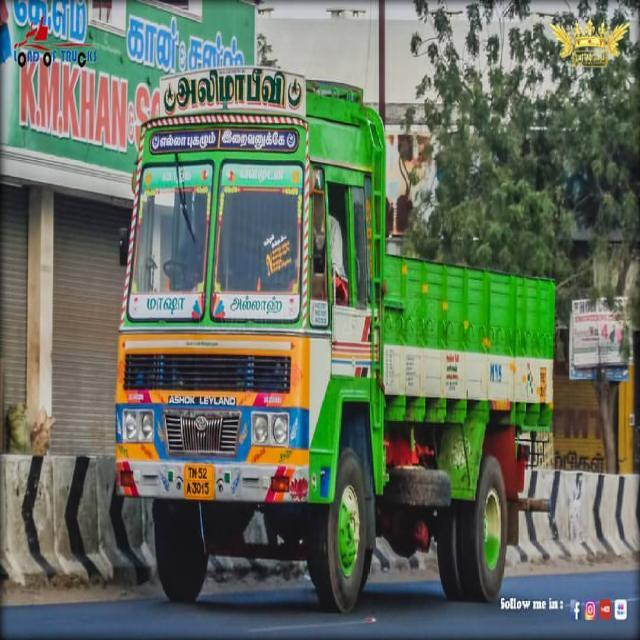Truck: (111, 61, 556, 619)
